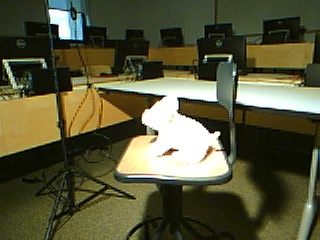piggy: (141, 94, 222, 163)
